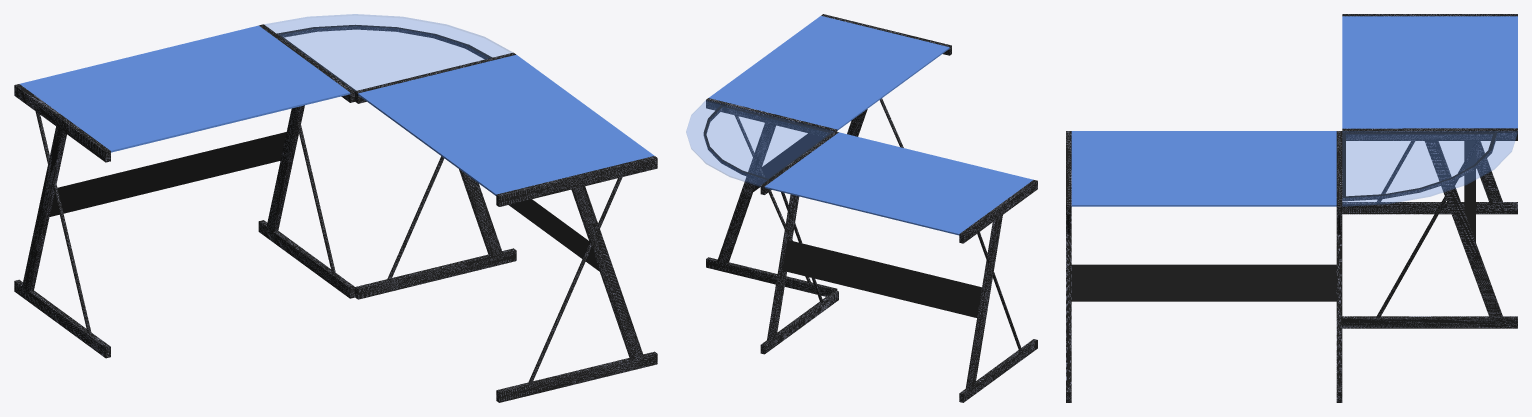
Rendered from desk.fbx.
The picture shows the model from 3 angles, left to right: view 1: azimuth 30°, elevation 25°; view 2: azimuth 150°, elevation 25°; view 3: azimuth 270°, elevation 25°; orthographic projection. The views are drawn at different scales.
Visible parts, largest first — view 1: Model, Group1; view 2: Model, Group1; view 3: Model, Group1.
Boxes of the visible parts, left/top/right/bottom form: Model: left=14, top=14, right=512, bottom=358; Group1: left=355, top=52, right=657, bottom=402; Model: left=686, top=100, right=1037, bottom=402; Group1: left=706, top=14, right=951, bottom=296; Model: left=1342, top=14, right=1517, bottom=328; Group1: left=1066, top=131, right=1342, bottom=402.
Size of the model in its own units: 60.5 by 29.25 by 60.5.
